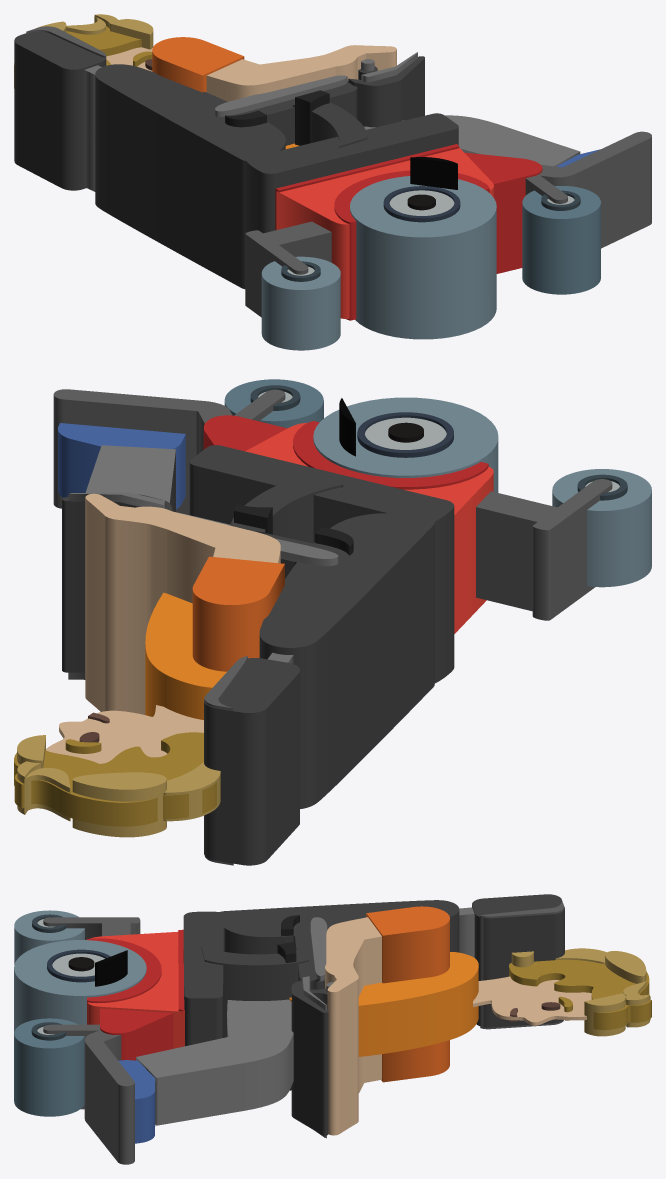
Rendered from emoji_u1f9d1_1f3fc_200d_1f9bc_200d_27a1.glb.
3 renders of one model, top to bottom at view 1: azimuth 30°, elevation 25°; view 2: azimuth 150°, elevation 25°; view 3: azimuth 270°, elevation 25°, orthographic. The views are drawn at different scales.
Visible parts, largest first — view 1: emoji_u1f9d1_1f3fc_200d_1f9bc_200d_27a1; view 2: emoji_u1f9d1_1f3fc_200d_1f9bc_200d_27a1; view 3: emoji_u1f9d1_1f3fc_200d_1f9bc_200d_27a1.
Part boxes in pixels (<box>): emoji_u1f9d1_1f3fc_200d_1f9bc_200d_27a1: <box>14,14,651,350</box>; emoji_u1f9d1_1f3fc_200d_1f9bc_200d_27a1: <box>14,379,651,865</box>; emoji_u1f9d1_1f3fc_200d_1f9bc_200d_27a1: <box>14,894,651,1164</box>.
Size of the model in its own units: 0.0236 by 0.0086 by 0.0339.
